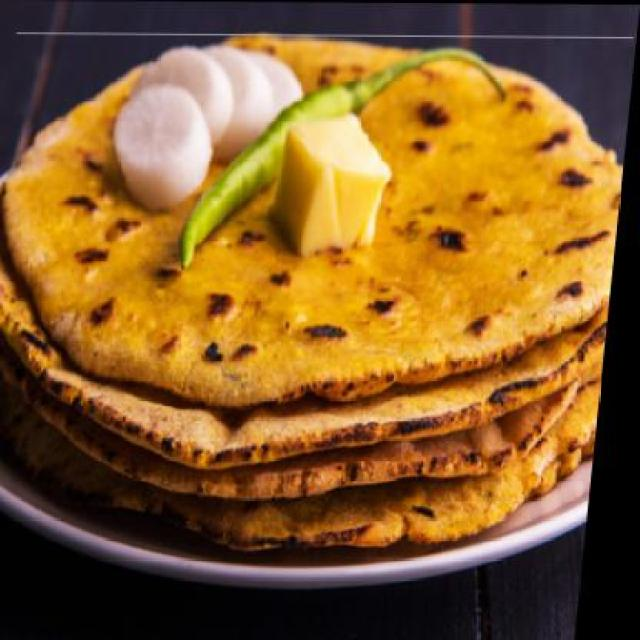chapati: (0, 32, 637, 410)
